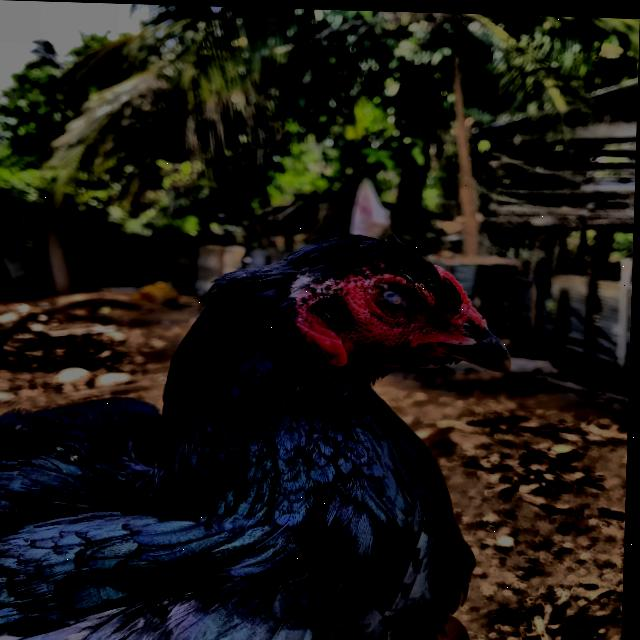Coryza: (0, 206, 522, 640)
